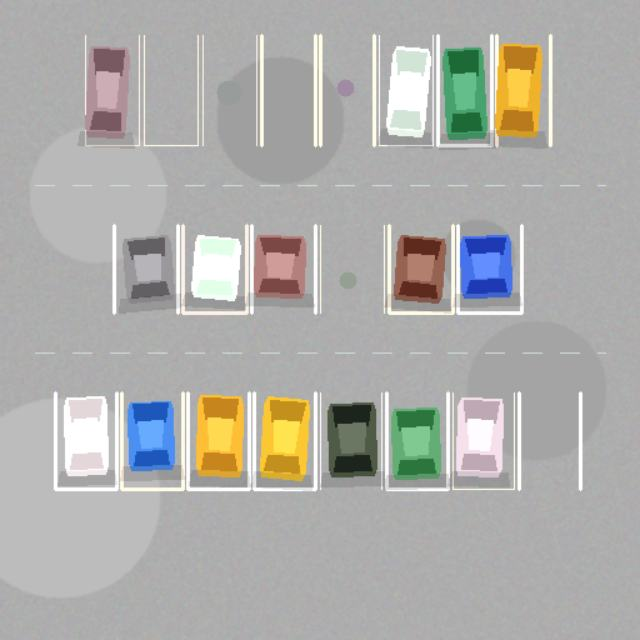space-empty: (144, 35, 198, 145), (202, 35, 256, 145), (261, 35, 315, 145), (320, 35, 374, 145), (519, 393, 580, 489), (320, 225, 384, 313)
space-occupied: (121, 393, 183, 489), (187, 393, 249, 489), (85, 35, 139, 145), (496, 35, 550, 145), (55, 393, 116, 489), (254, 393, 315, 489), (320, 393, 381, 489), (386, 393, 447, 489), (453, 393, 514, 489), (379, 35, 432, 145), (438, 35, 491, 145), (251, 225, 315, 313), (389, 225, 453, 313), (457, 225, 521, 313), (114, 225, 177, 313), (183, 225, 246, 313)
